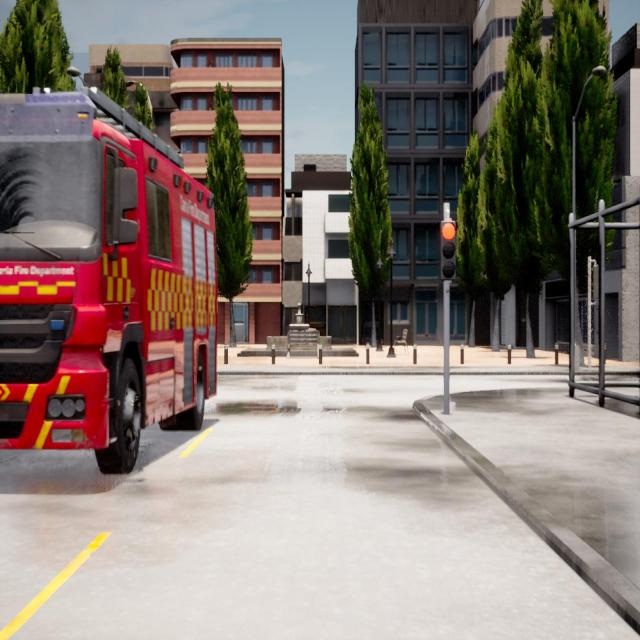Vehicle: (0, 87, 216, 472)
traffic_light: (440, 222, 457, 280), (592, 266, 598, 300)
